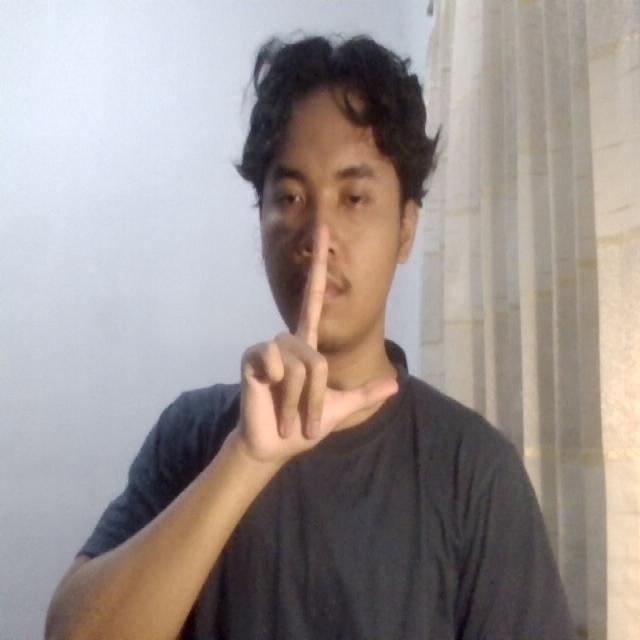I: (220, 213, 415, 480)
